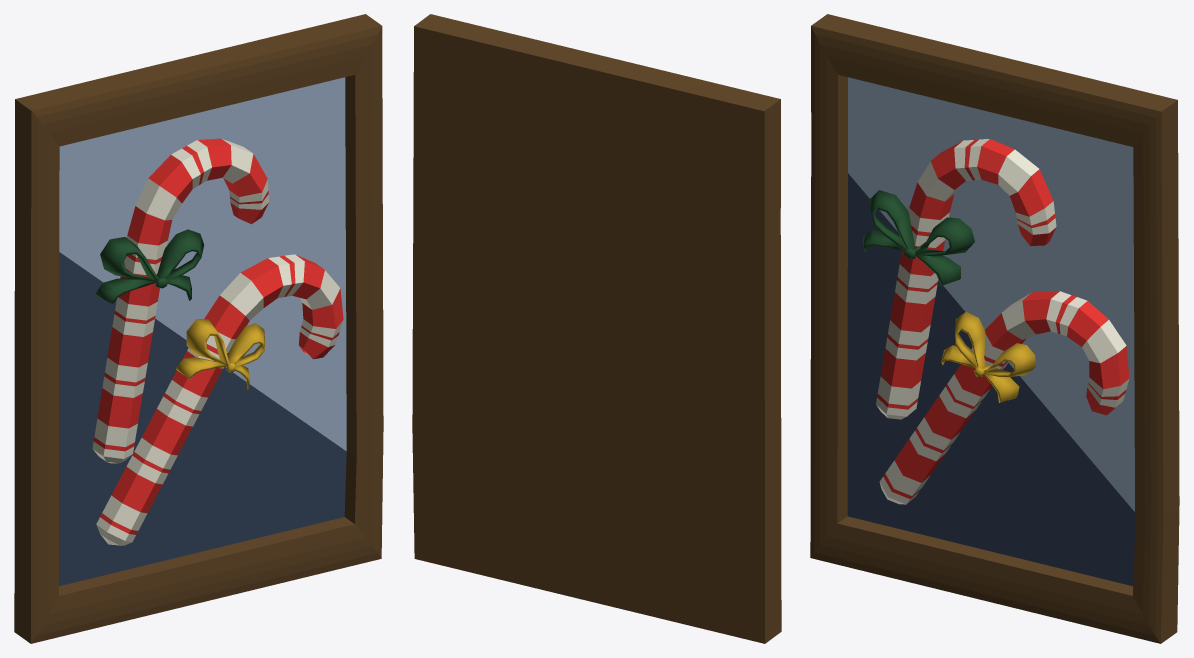
File: Image_candycane.fbx
3 views of the same model, side by side, from view 1: azimuth 30°, elevation 25°; view 2: azimuth 150°, elevation 25°; view 3: azimuth 330°, elevation 25° (orthographic).
Parts seen in each view (by area): view 1: Image_candycane; view 2: Image_candycane; view 3: Image_candycane.
Boxes of the visible parts, x1,y1,x2,y2 form: Image_candycane: (14, 14, 383, 643); Image_candycane: (412, 14, 781, 643); Image_candycane: (810, 14, 1179, 643).
Size of the model in its own units: 0.3129 by 0.452 by 0.0522.
